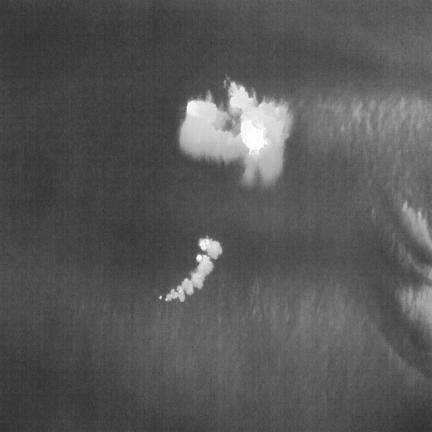flukeprints: (180, 82, 293, 185), (165, 237, 222, 301)
